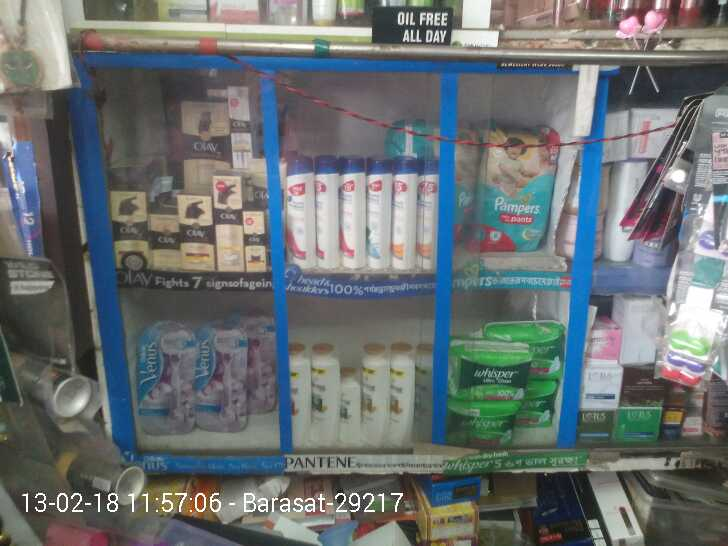venus: (193, 313, 249, 435), (138, 327, 192, 435), (249, 315, 276, 415)
